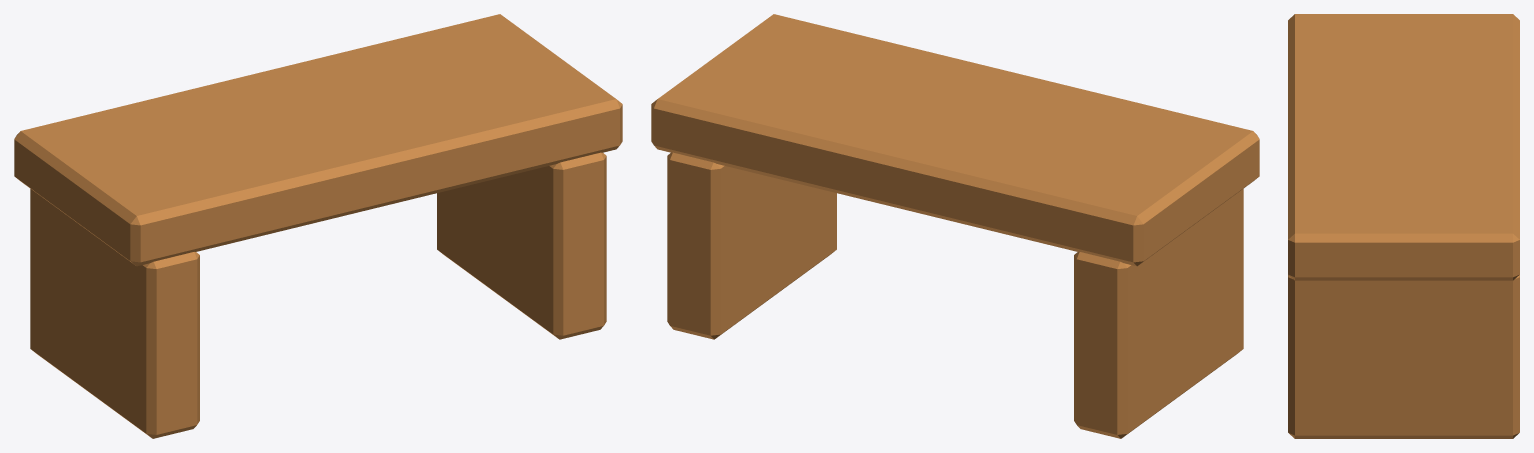
The model's file is domino_bridge.glb.
3 renders of one model, left to right at view 1: azimuth 30°, elevation 25°; view 2: azimuth 150°, elevation 25°; view 3: azimuth 270°, elevation 25°, orthographic. The views are drawn at different scales.
Visible parts, largest first — view 1: domino_bridge; view 2: domino_bridge; view 3: domino_bridge.
Boxes of the visible parts, x1,y1,x2,y2 form: domino_bridge: (14, 14, 622, 438); domino_bridge: (651, 14, 1259, 438); domino_bridge: (1288, 14, 1519, 438).
Bounding box in the file's own units: 0.46 × 0.2025 × 0.2.
